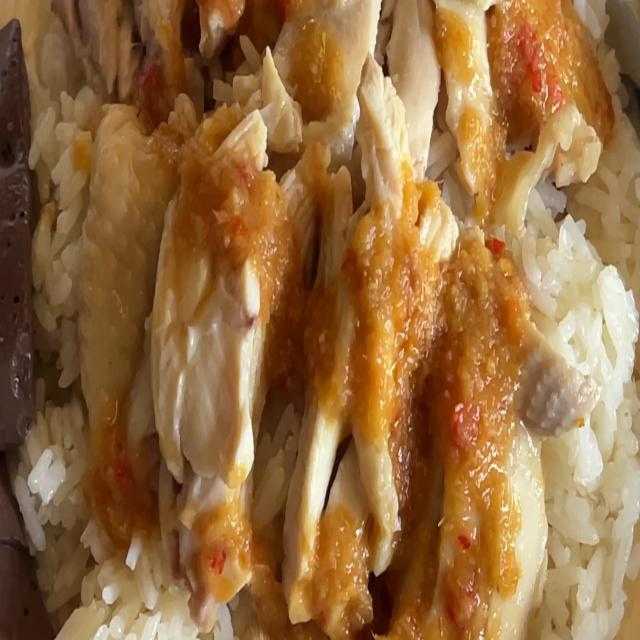boiled_chicken: (91, 7, 563, 548)
boiled_chicken_blood_jelly: (0, 20, 37, 447), (0, 457, 53, 640)
chicken_rice: (0, 0, 640, 640)
